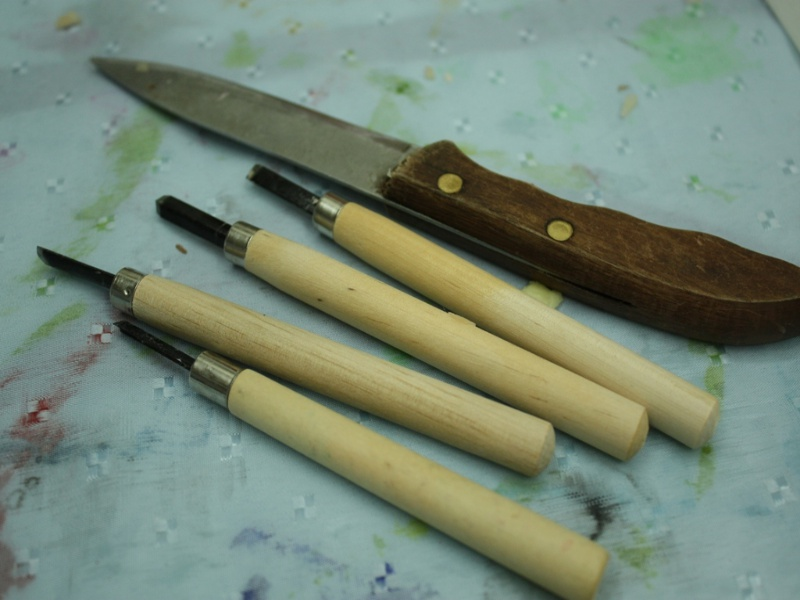knife: (86, 48, 800, 348)
